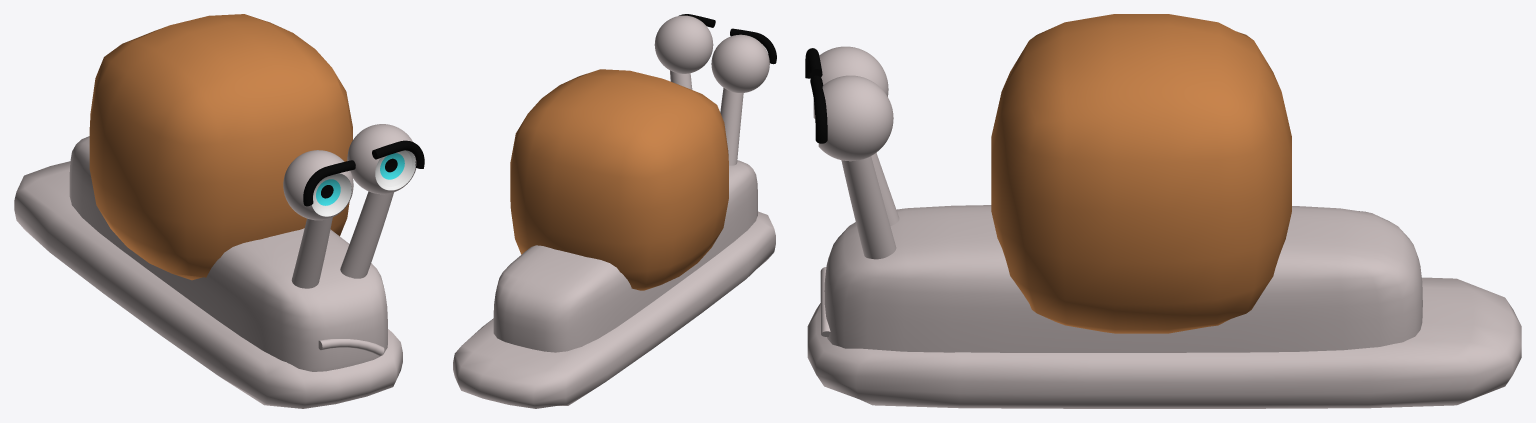
The model's file is Escargot Snail5.gltf.
The picture shows the model from 3 angles, left to right: view 1: azimuth 30°, elevation 25°; view 2: azimuth 150°, elevation 25°; view 3: azimuth 270°, elevation 25°; orthographic projection. The views are drawn at different scales.
Parts seen in each view (by area): view 1: Capsule_2-Mat.1, Capsule_2-Mat, Capsule_2-Mat.6, Capsule_2-Mat.4, Цилиндр, Цилиндр.1, Цилиндр.2; view 2: Capsule_2-Mat, Capsule_2-Mat.1, Цилиндр; view 3: Capsule_2-Mat, Capsule_2-Mat.1, Цилиндр.1.
Part boxes in pixels (x1=…): Capsule_2-Mat.1: x1=89, y1=14, x2=352, y2=280; Capsule_2-Mat: x1=14, y1=124, x2=416, y2=408; Capsule_2-Mat.6: x1=312, y1=150, x2=415, y2=216; Capsule_2-Mat.4: x1=316, y1=153, x2=404, y2=205; Цилиндр: x1=303, y1=160, x2=355, y2=206; Цилиндр.1: x1=372, y1=140, x2=424, y2=168; Цилиндр.2: x1=318, y1=339, x2=384, y2=355; Capsule_2-Mat: x1=453, y1=15, x2=775, y2=408; Capsule_2-Mat.1: x1=510, y1=69, x2=728, y2=290; Цилиндр: x1=730, y1=28, x2=776, y2=64; Capsule_2-Mat: x1=807, y1=46, x2=1521, y2=408; Capsule_2-Mat.1: x1=991, y1=14, x2=1291, y2=333; Цилиндр.1: x1=810, y1=75, x2=827, y2=143.
Bounding box in the file's own units: 17.55 × 22.08 × 41.77.
